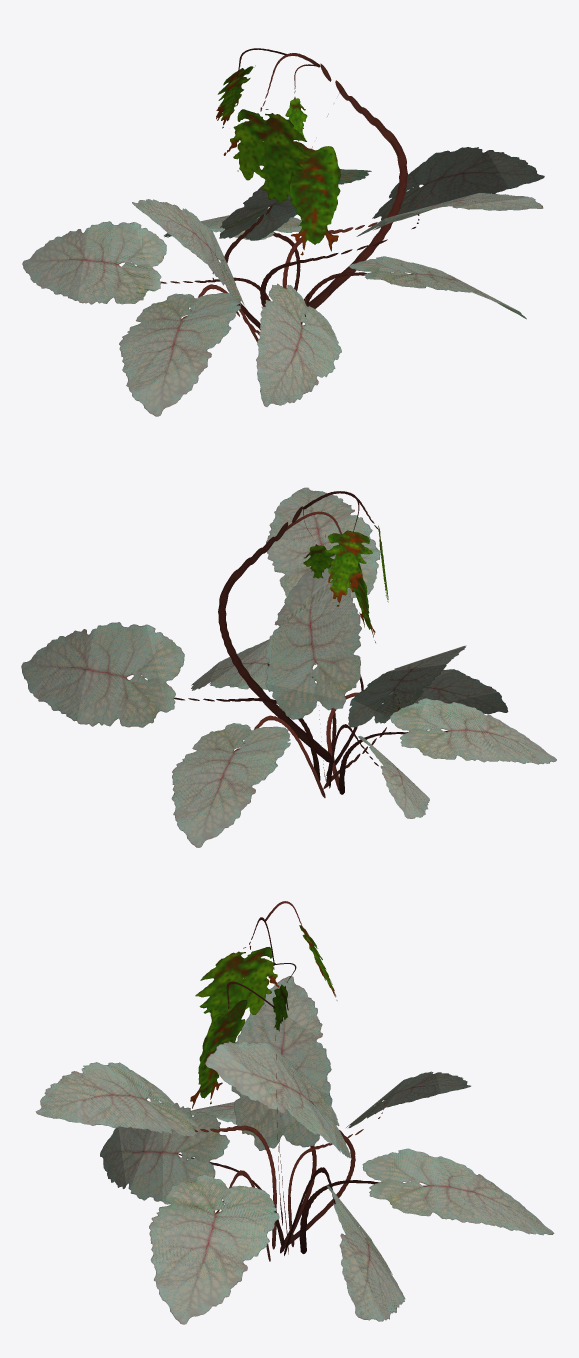
File: Spin Reef D6.fbx
3 renders of one model, top to bottom at view 1: azimuth 30°, elevation 25°; view 2: azimuth 150°, elevation 25°; view 3: azimuth 270°, elevation 25°, orthographic. The views are drawn at different scales.
Parts seen in each view (by area): view 1: Spin Reef D6; view 2: Spin Reef D6; view 3: Spin Reef D6.
Part boxes in pixels (<box>): Spin Reef D6: <box>22,48,544,416</box>; Spin Reef D6: <box>21,487,556,847</box>; Spin Reef D6: <box>35,901,554,1324</box>.
Size of the model in its own units: 220 by 149 by 196.
